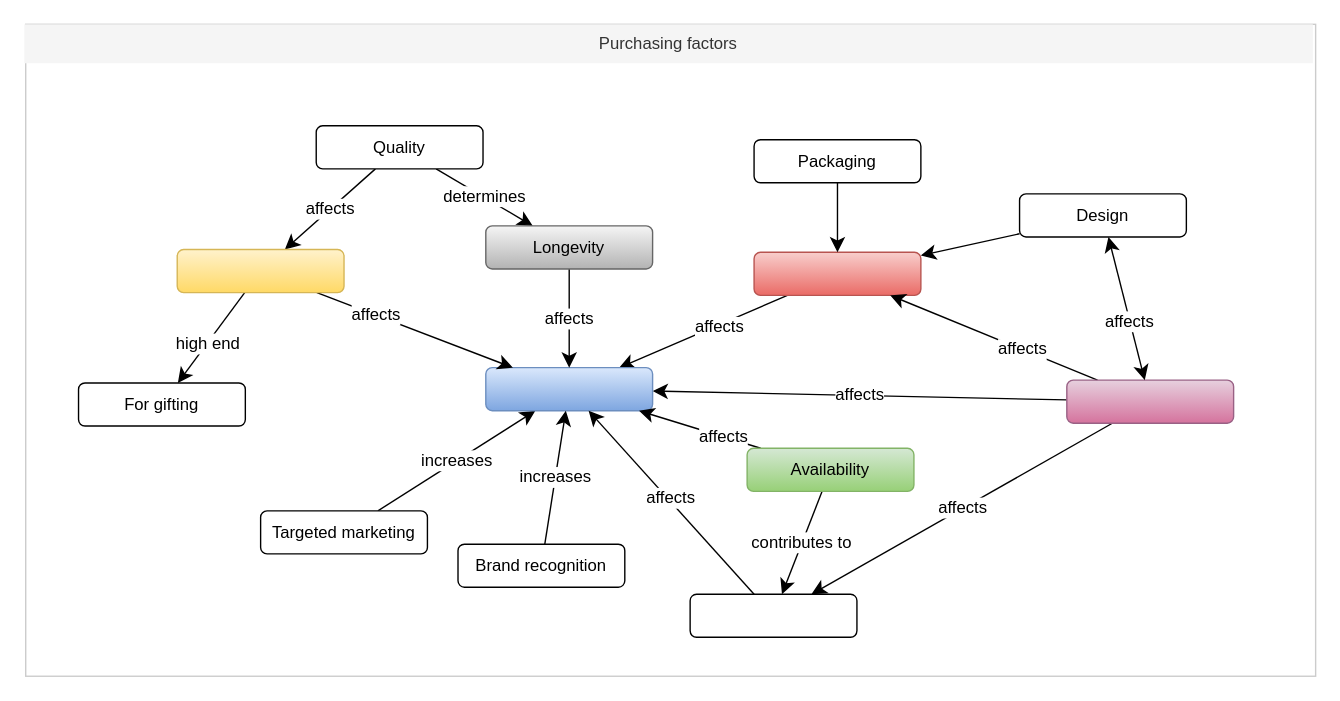
Some shapes in this 1340 by 701 pixel diagram are drawn without their labels. The centre of each missing label's shape, as x and y in pixels:
"Appearance" belongs at [837,273].
"Convenience" belongs at [773,615].
"Functionality" belongs at [1149,401].
"Popularity" belongs at [568,388].
"Price" belongs at [260,270].
